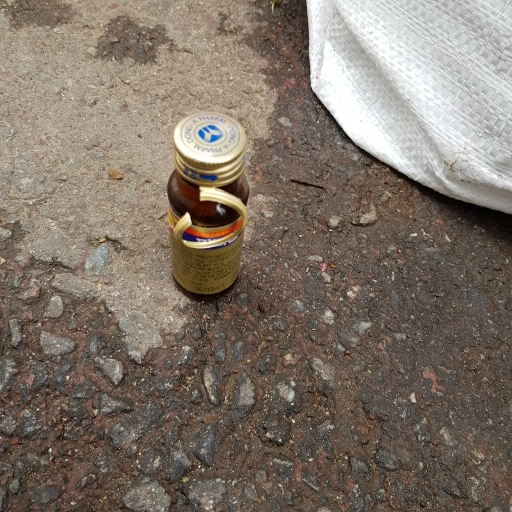Glass_3: (156, 110, 251, 300)
